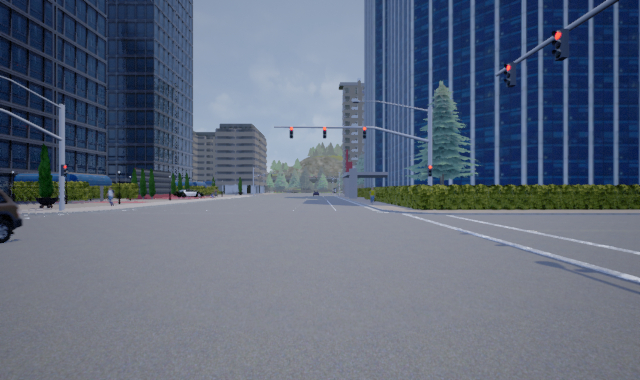pedestrian: (103, 185, 116, 206), (368, 186, 376, 204)
traffic_light: (551, 28, 569, 59), (502, 60, 518, 86), (59, 163, 68, 176), (288, 125, 294, 139), (426, 164, 432, 176), (362, 125, 366, 139), (322, 126, 326, 138)
vehicle: (1, 178, 22, 243), (172, 190, 203, 199)
